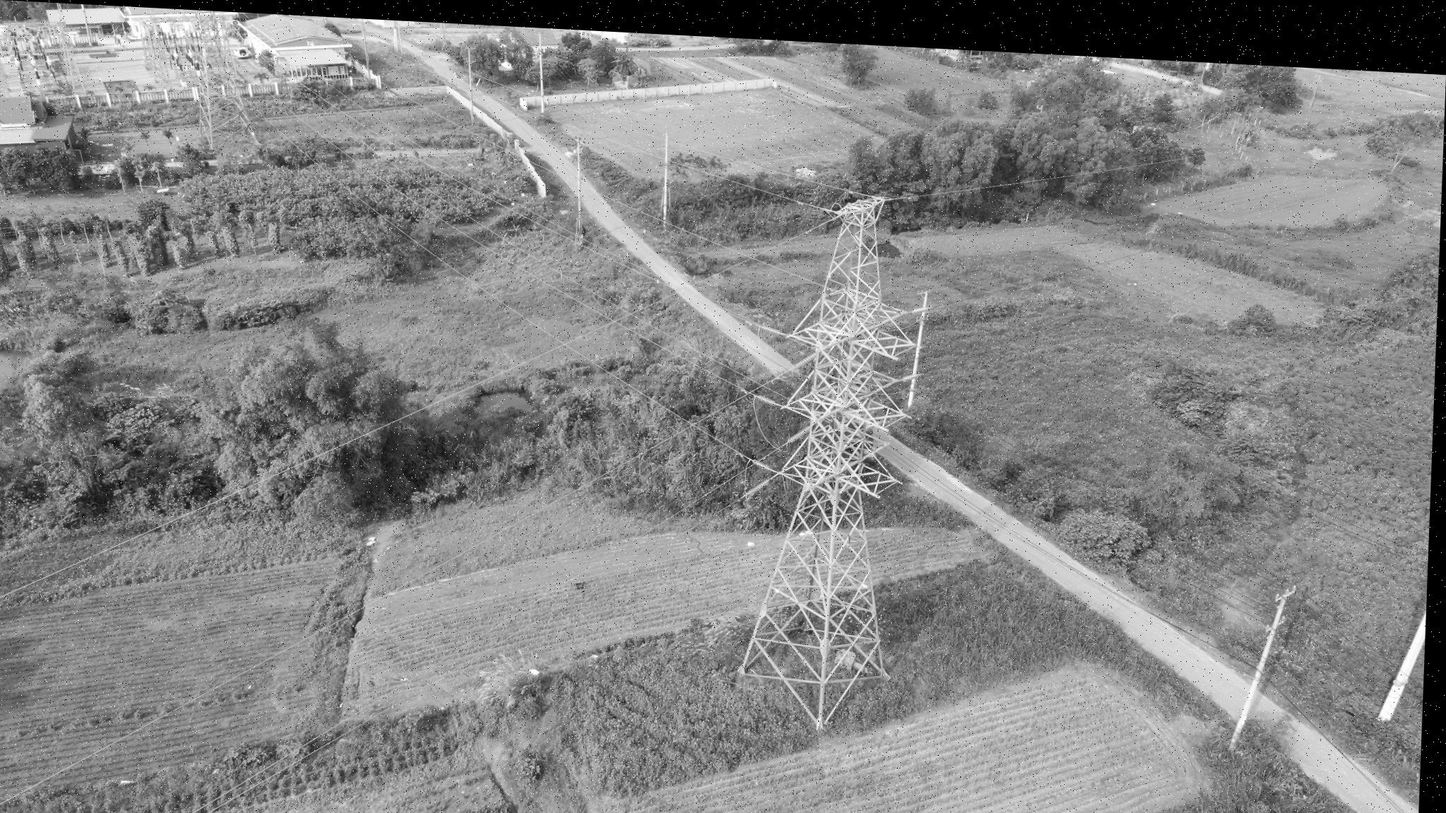tower: (731, 189, 952, 742)
